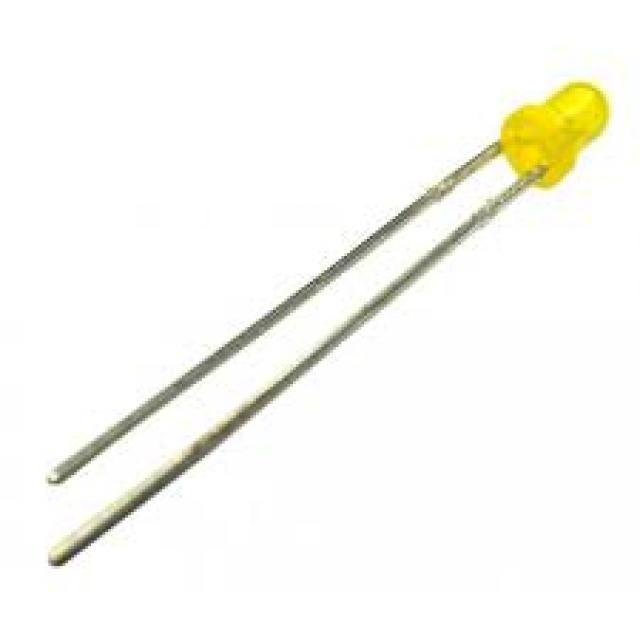Led: (49, 82, 609, 566)
